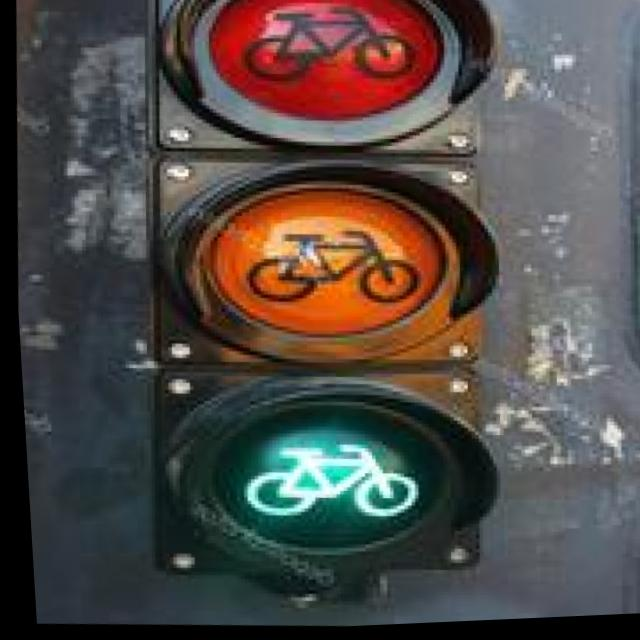green_light: (117, 364, 504, 606)
red_light: (126, 0, 487, 168)
yellow_light: (130, 109, 526, 369)
